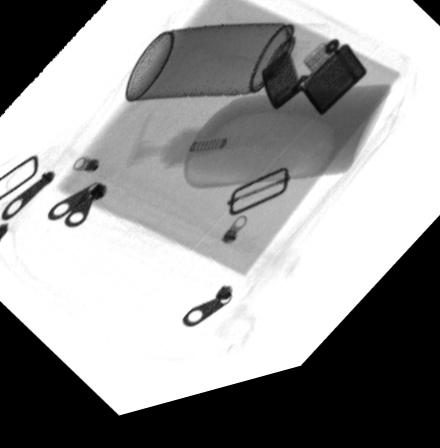Lighter: (259, 57, 366, 132)
Sprayer: (125, 37, 331, 108)
